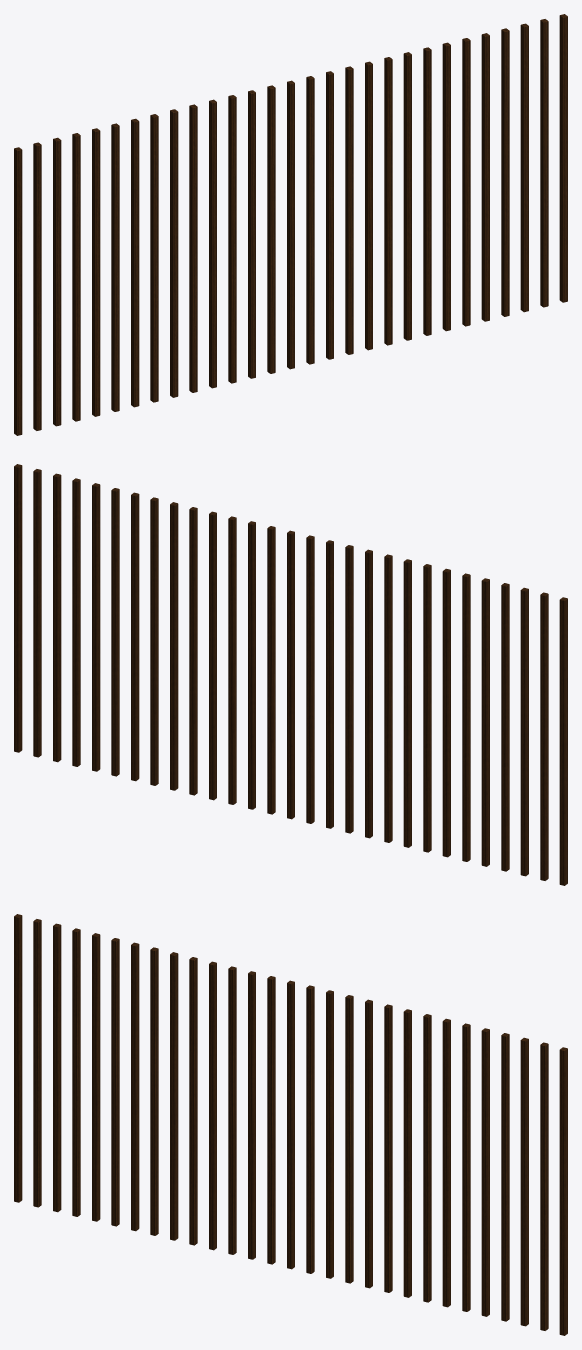
The model's file is west.glb.
The picture shows the model from 3 angles, top to bottom: view 1: azimuth 30°, elevation 25°; view 2: azimuth 150°, elevation 25°; view 3: azimuth 330°, elevation 25°; orthographic projection.
Parts seen in each view (by area): view 1: japanese-game-cafe west; view 2: japanese-game-cafe west; view 3: japanese-game-cafe west.
Part boxes in pixels (x1,y1,x2,y2): japanese-game-cafe west: (14,14,567,435); japanese-game-cafe west: (14,464,567,885); japanese-game-cafe west: (14,914,567,1335).
Size of the model in its own units: 5.65 by 2.8 by 0.06.
1 material, 1 textured.
